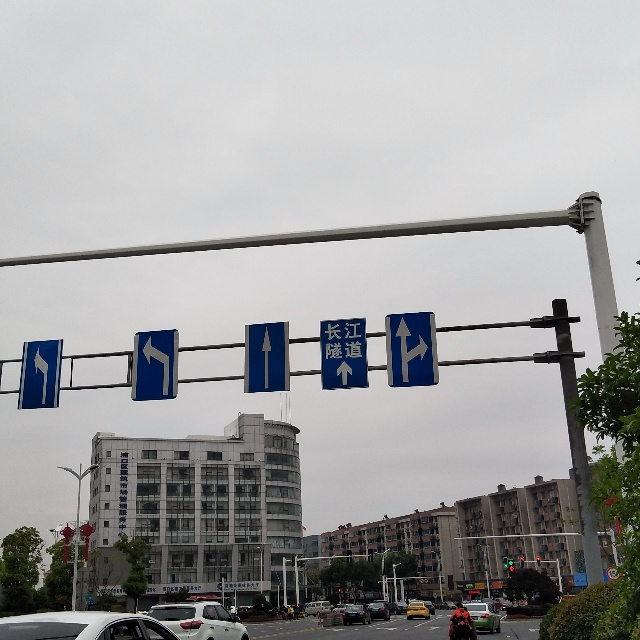left: (135, 329, 178, 405), (20, 343, 58, 405)
straight: (248, 322, 291, 394)
